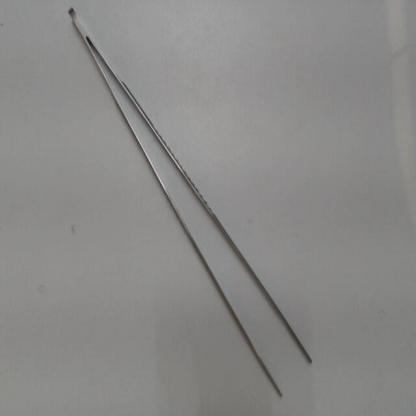DeBakey Dissector: (60, 0, 344, 413)
